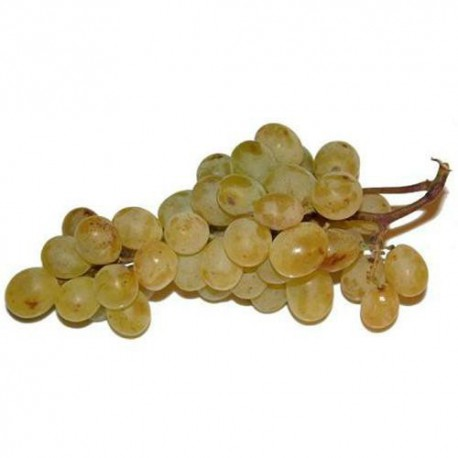Green grapes: (2, 112, 447, 346)
